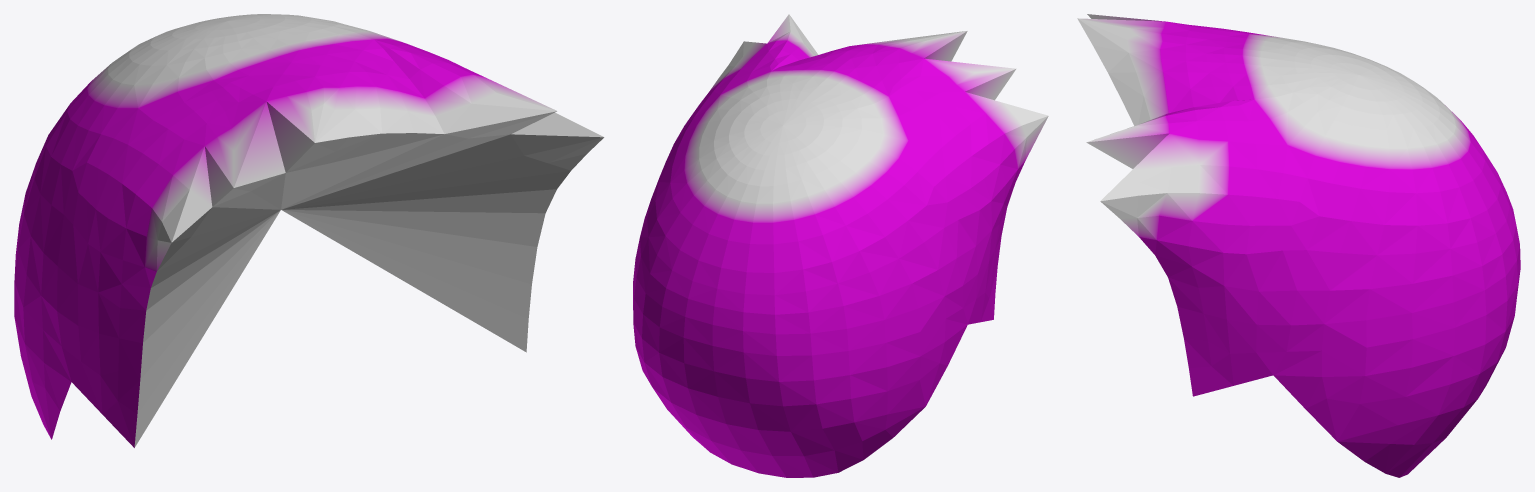
File: hair_44.glb
3 renders of one model, left to right at view 1: azimuth 30°, elevation 25°; view 2: azimuth 150°, elevation 25°; view 3: azimuth 270°, elevation 25°, orthographic. The views are drawn at different scales.
Parts seen in each view (by area): view 1: shape; view 2: shape; view 3: shape.
Boxes of the visible parts, x1,y1,x2,y2 form: shape: [14, 14, 604, 447]; shape: [633, 14, 1048, 477]; shape: [1077, 14, 1520, 477].
Size of the model in its own units: 54.48 by 59.97 by 59.98.
